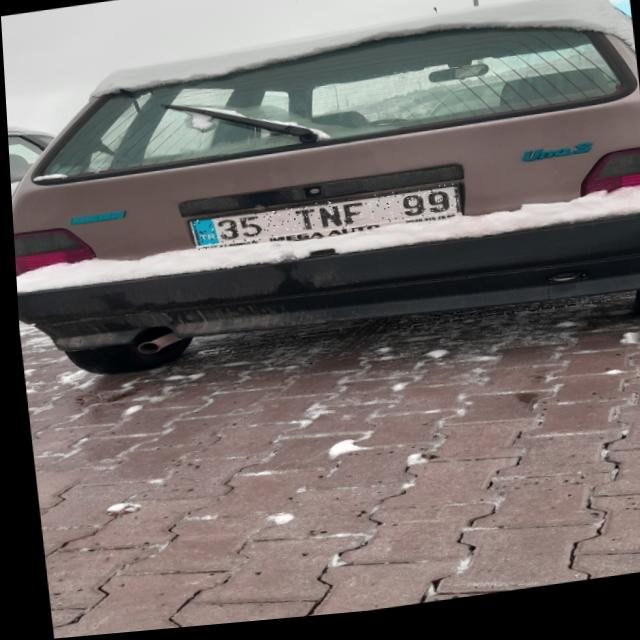license_plate: (187, 191, 457, 254)
